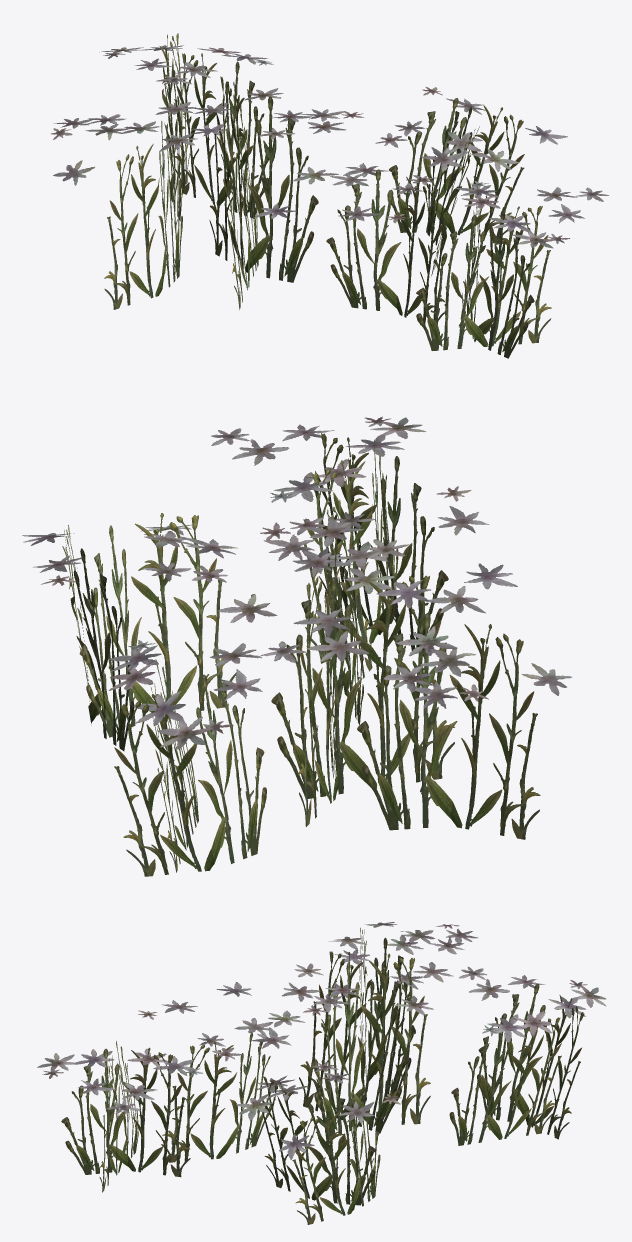
Rendered from bg_anh_foliage_te_f30_sm_old.FBX.
The picture shows the model from 3 angles, top to bottom: view 1: azimuth 30°, elevation 25°; view 2: azimuth 150°, elevation 25°; view 3: azimuth 270°, elevation 25°; orthographic projection. The views are drawn at different scales.
Visible parts, largest first — view 1: bg_anh_foliage_te_f30_sm_old; view 2: bg_anh_foliage_te_f30_sm_old; view 3: bg_anh_foliage_te_f30_sm_old.
Part boxes in pixels (x1,y1,x2,y2): bg_anh_foliage_te_f30_sm_old: (51,33,608,358); bg_anh_foliage_te_f30_sm_old: (22,416,571,876); bg_anh_foliage_te_f30_sm_old: (37,922,606,1224).
Bounding box in the file's own units: 159 × 61.56 × 187.
